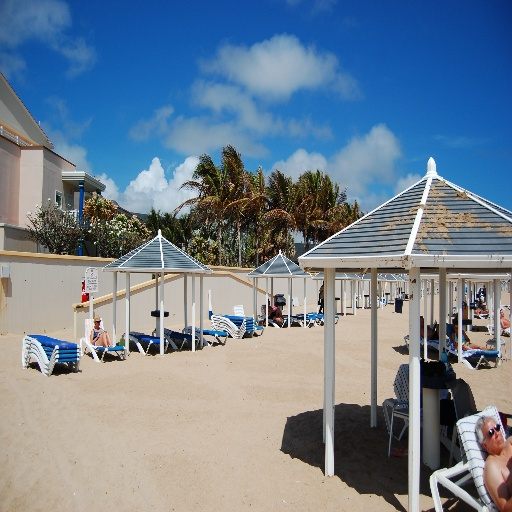hand: (96, 331, 100, 337), (462, 342, 466, 347)
